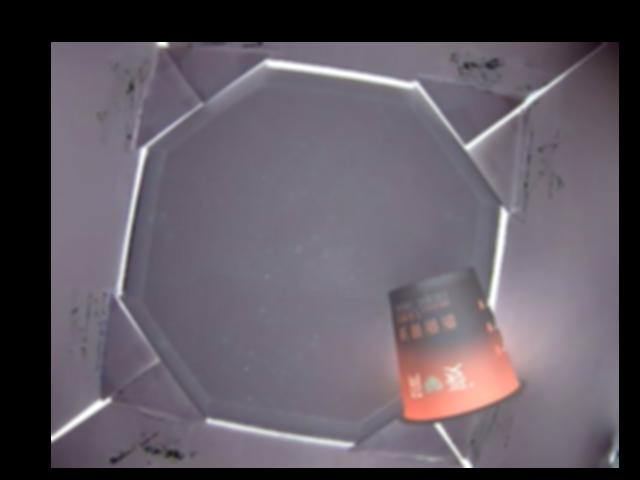Cup: (386, 268, 524, 428)
